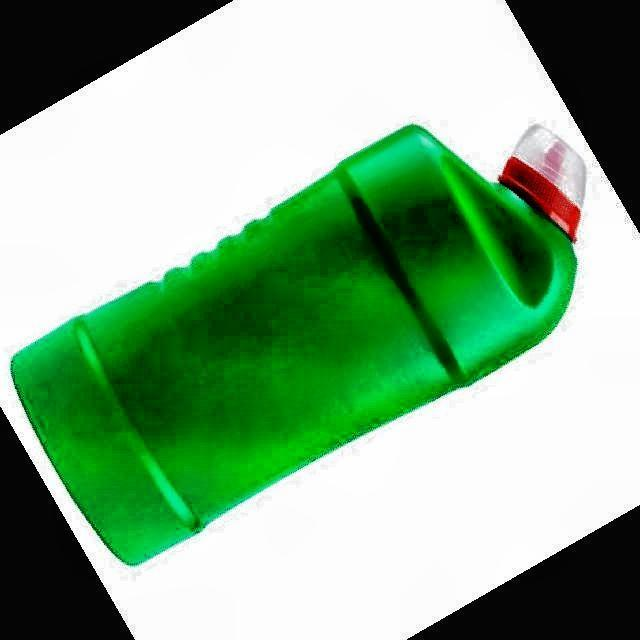plastic: (11, 125, 583, 563)
